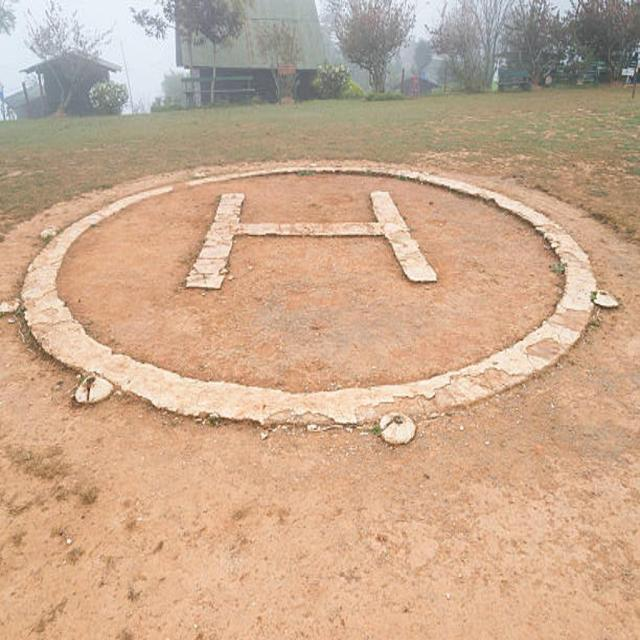helipad: (19, 162, 595, 423)
